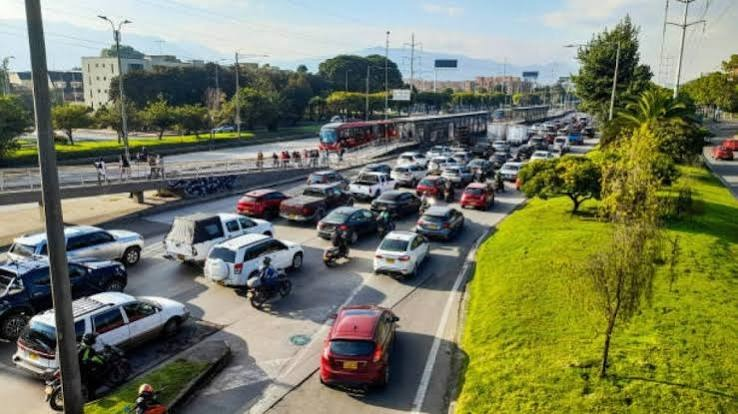car: (44, 116, 612, 288), (268, 116, 599, 227), (35, 298, 198, 378), (320, 289, 401, 391), (17, 293, 144, 356), (69, 294, 187, 359), (7, 226, 140, 273), (199, 230, 296, 293), (11, 257, 123, 308), (188, 220, 287, 275), (383, 223, 470, 285), (164, 214, 269, 263), (376, 230, 448, 283), (50, 227, 143, 265), (7, 315, 60, 376), (2, 286, 52, 346), (3, 267, 54, 324), (371, 228, 429, 277), (322, 206, 385, 245), (67, 258, 130, 297), (372, 191, 425, 228), (417, 205, 470, 241), (704, 134, 738, 186)
